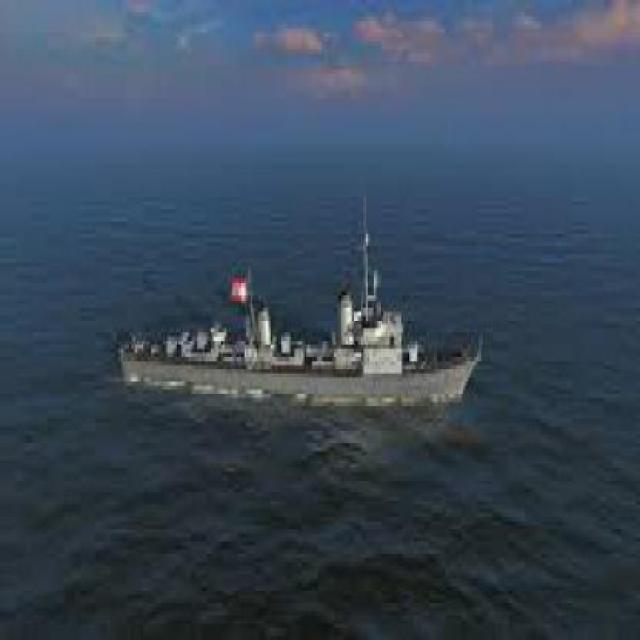warship2: (116, 182, 508, 416)
